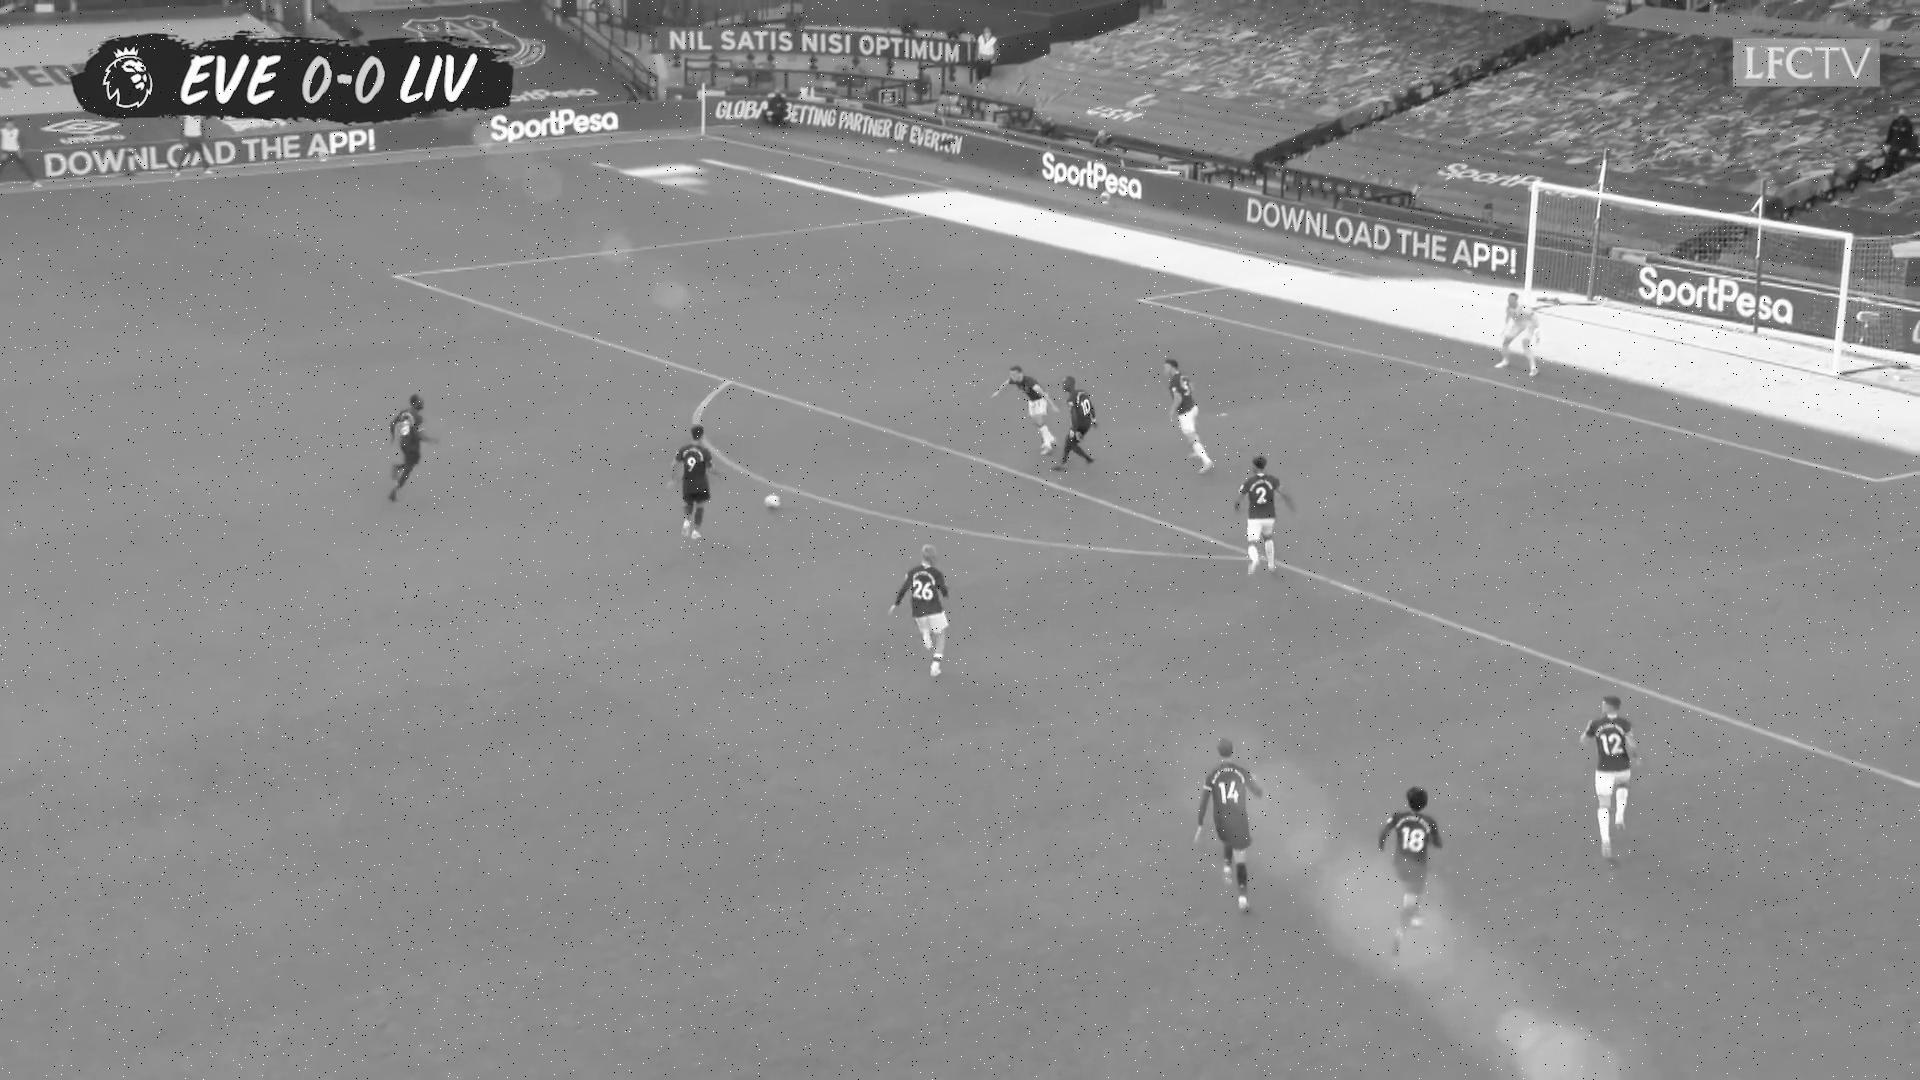ball: (762, 493, 782, 513)
